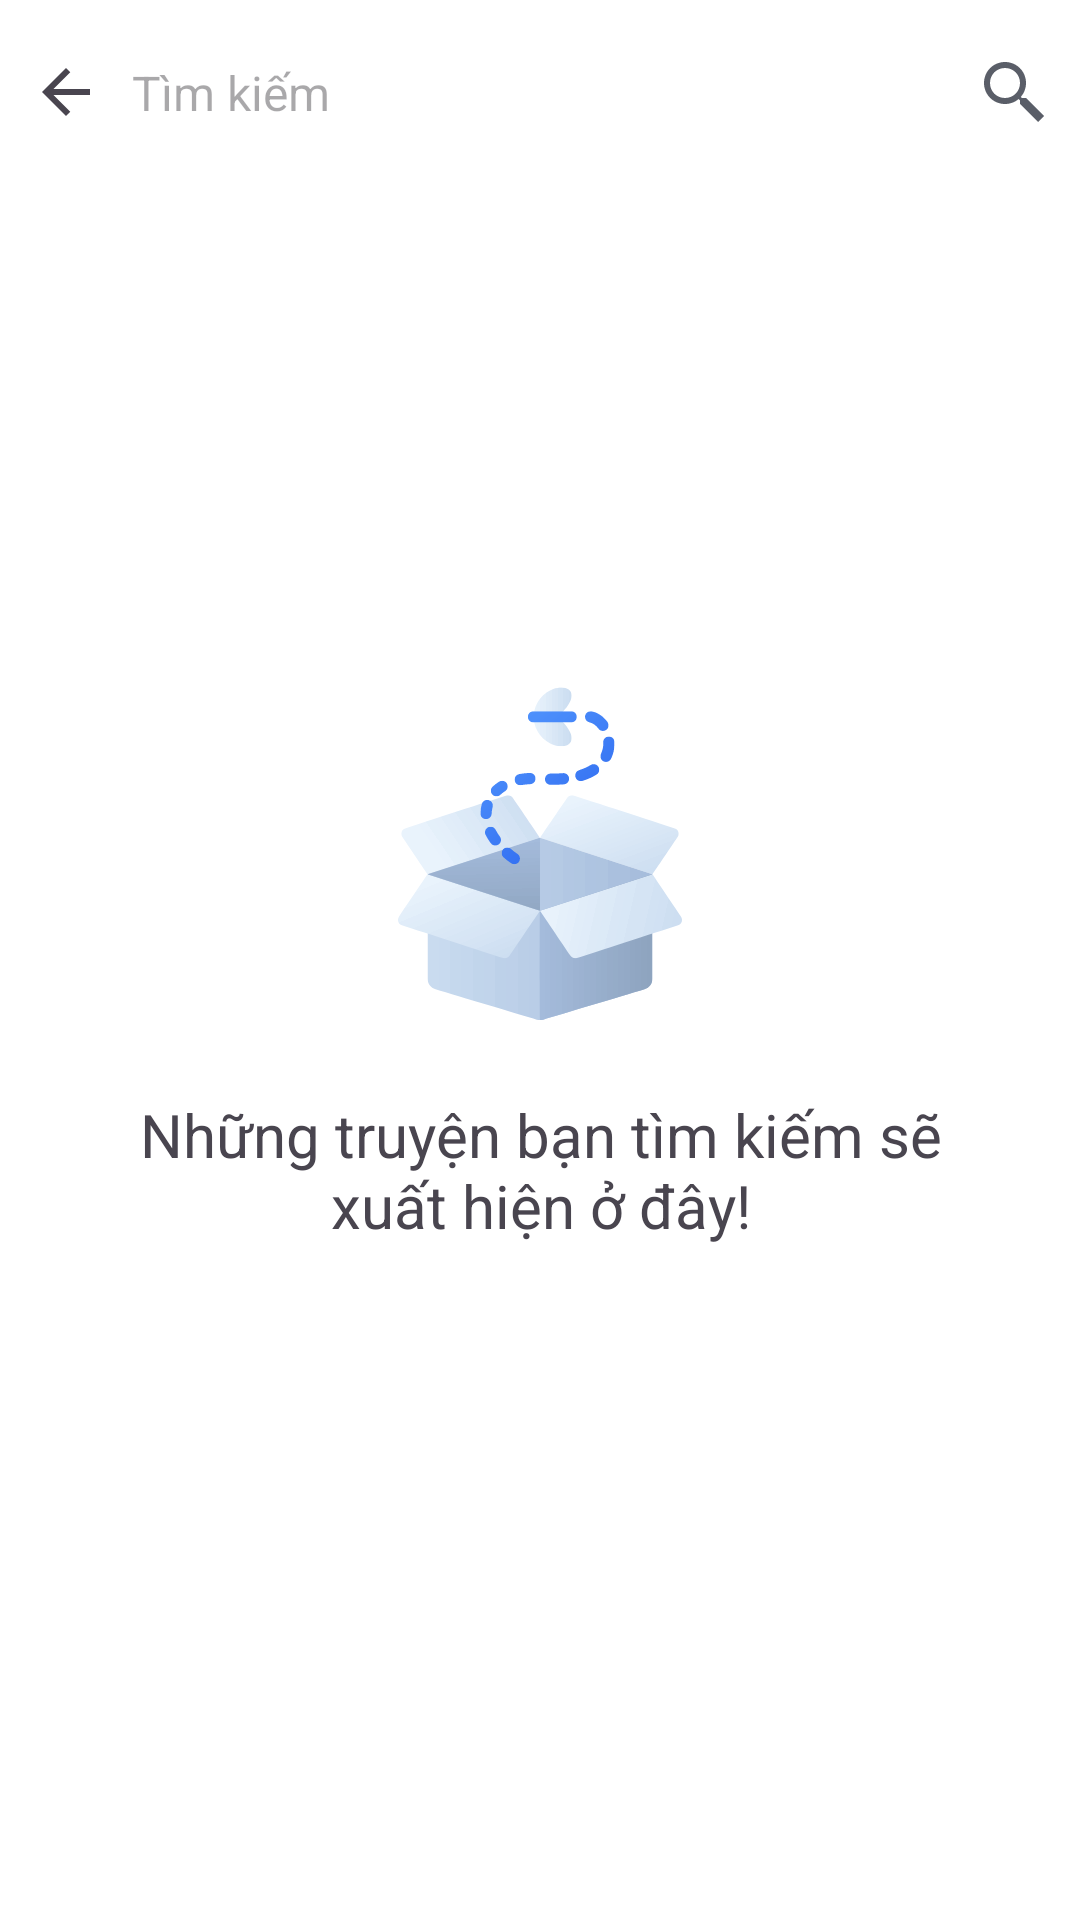

Screen size 1080x1920. Icon name, then its box in pixels as {"left": x1, "top": y1, "right": x2, "bottom": y2}:
Back button: {"left": 42, "top": 68, "right": 90, "bottom": 116}
not found: {"left": 398, "top": 688, "right": 682, "bottom": 1020}
Search button: {"left": 984, "top": 62, "right": 1044, "bottom": 122}
